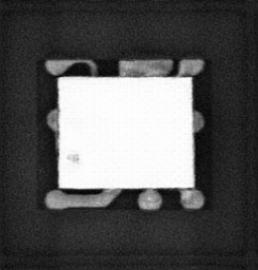DIE_INK: (65, 152, 80, 164)
